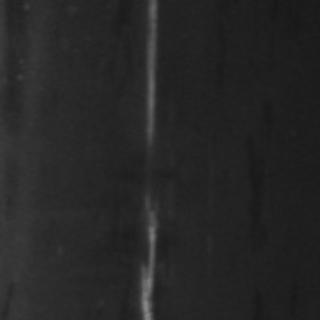scratches: (134, 0, 158, 154), (133, 200, 163, 318)
